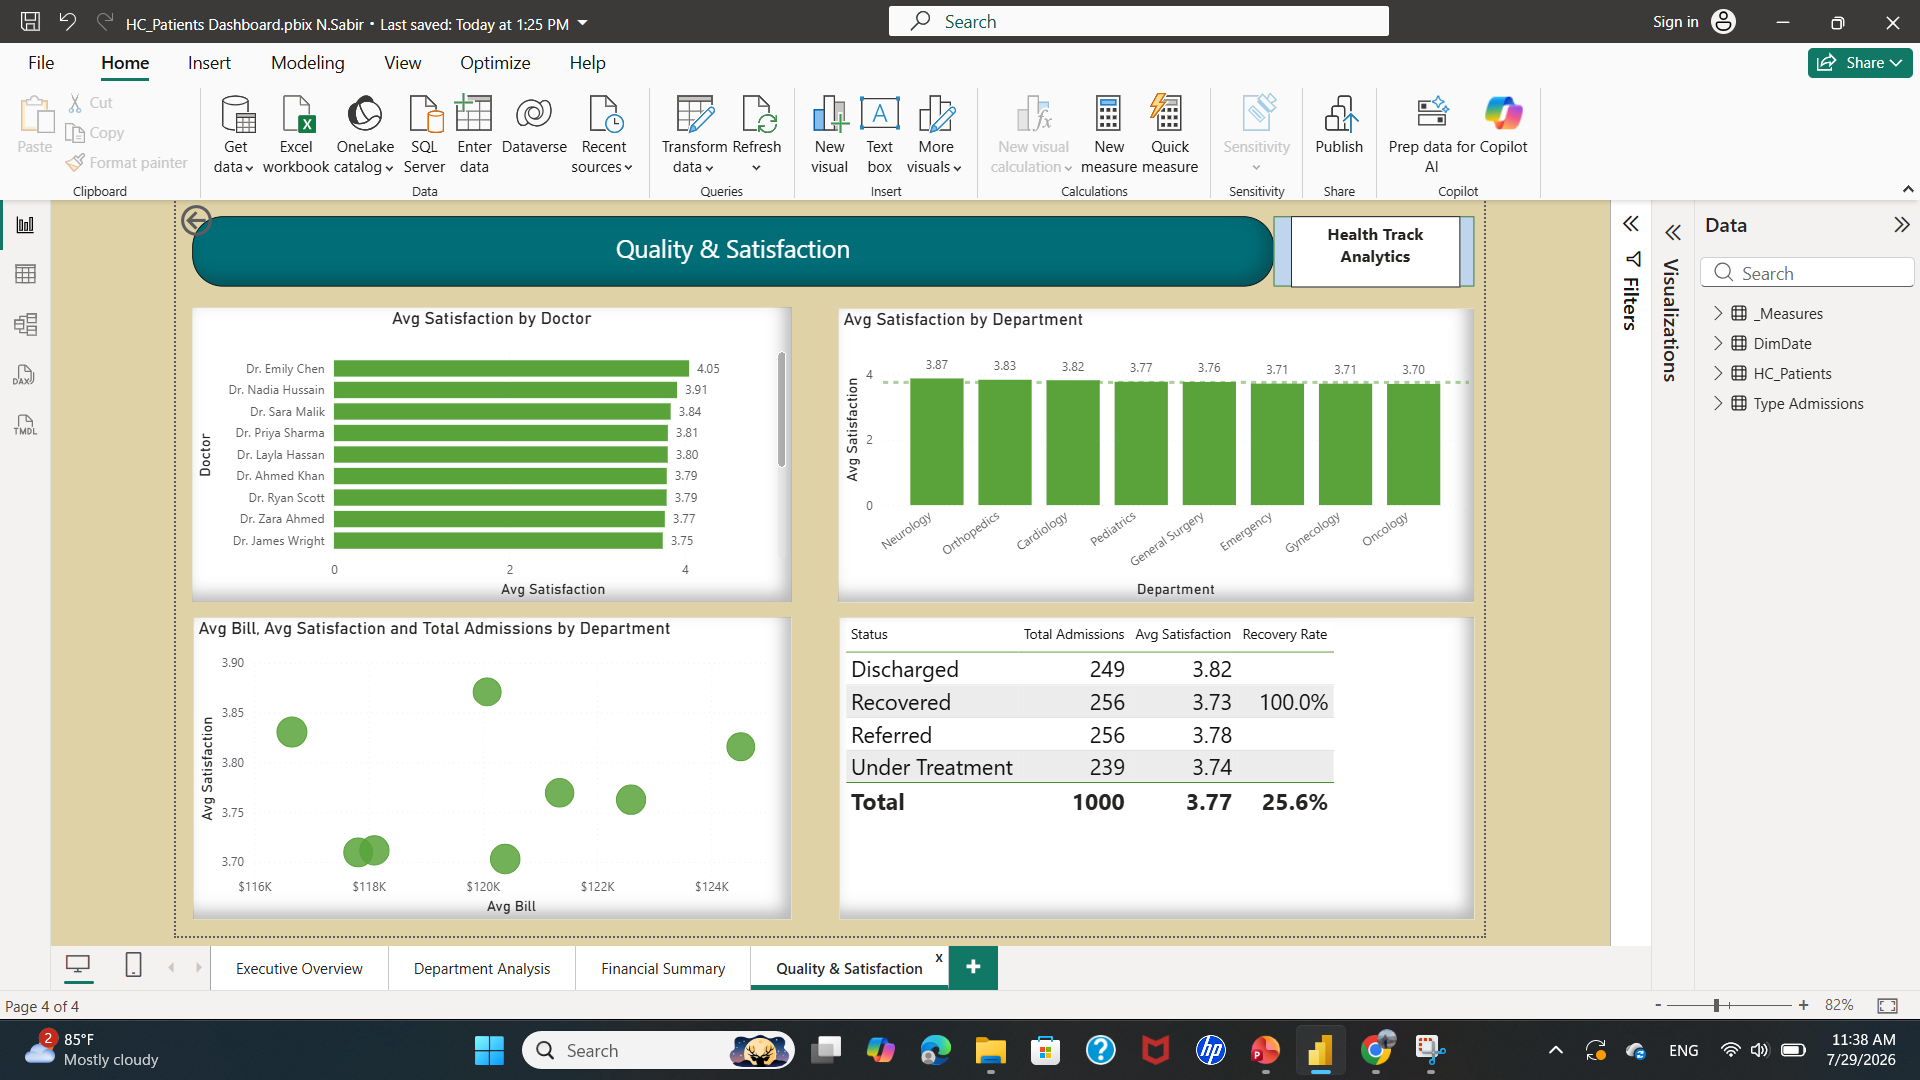

Layout of this report page (visuals, bound fields, positions):
{"tool":"powerbi","page":{"name":"Quality & Satisfaction","canvas":[1280,720],"ordinal":3},"visuals":[{"type":"textbox","box":[0,0,1280,38.9],"z":0},{"type":"shape","box":[1152.5,4.3,127.5,30.2],"z":1000},{"type":"barChart","title":"Avg Satisfaction by Doctor","fields":{"Category":["Admissions.Doctor"],"Y":["_Measures.Avg Satisfaction"]},"box":[0,45.6,660.3,343.7],"z":2000},{"type":"scatterChart","title":"Bill Amount vs Satisfaction","fields":{"X":["_Measures.Avg Bill"],"Y":["_Measures.Avg Satisfaction"],"Category":["Admissions.Department"],"Size":["_Measures.Total Admissions"],"Series":["Admissions.Department"]},"box":[0,398.7,659.9,321],"z":3000},{"type":"columnChart","title":"Satisfaction by Department","fields":{"Category":["Admissions.Department"],"Y":["_Measures.Avg Satisfaction"]},"box":[670.4,45.1,609.6,344.1],"z":4000},{"type":"tableEx","title":"Patient Status Breakdown","fields":{"Values":["Admissions.Status","_Measures.Total Admissions","_Measures.Avg Satisfaction","_Measures.Recovery Rate %"]},"box":[670.4,398.7,600.1,321],"z":5000},{"type":"actionButton","box":[0,0,38,34],"z":6000},{"type":"actionButton","box":[46.8,0,70.2,34.5],"z":7000}]}

Visuals, with their boxes on the page's 1280x720 design canvas (x1, y1, x2, y2). These are canvas units, not pixel positions in the 1920x1080 screenshot, which may show the page scaled, cropped or inside an application window:
textbox: <bbox>0, 0, 1280, 39</bbox>
shape: <bbox>1152, 4, 1280, 34</bbox>
"Avg Satisfaction by Doctor" barChart: <bbox>0, 46, 660, 389</bbox>
"Bill Amount vs Satisfaction" scatterChart: <bbox>0, 399, 660, 720</bbox>
"Satisfaction by Department" columnChart: <bbox>670, 45, 1280, 389</bbox>
"Patient Status Breakdown" tableEx: <bbox>670, 399, 1270, 720</bbox>
actionButton: <bbox>0, 0, 38, 34</bbox>
actionButton: <bbox>47, 0, 117, 34</bbox>
